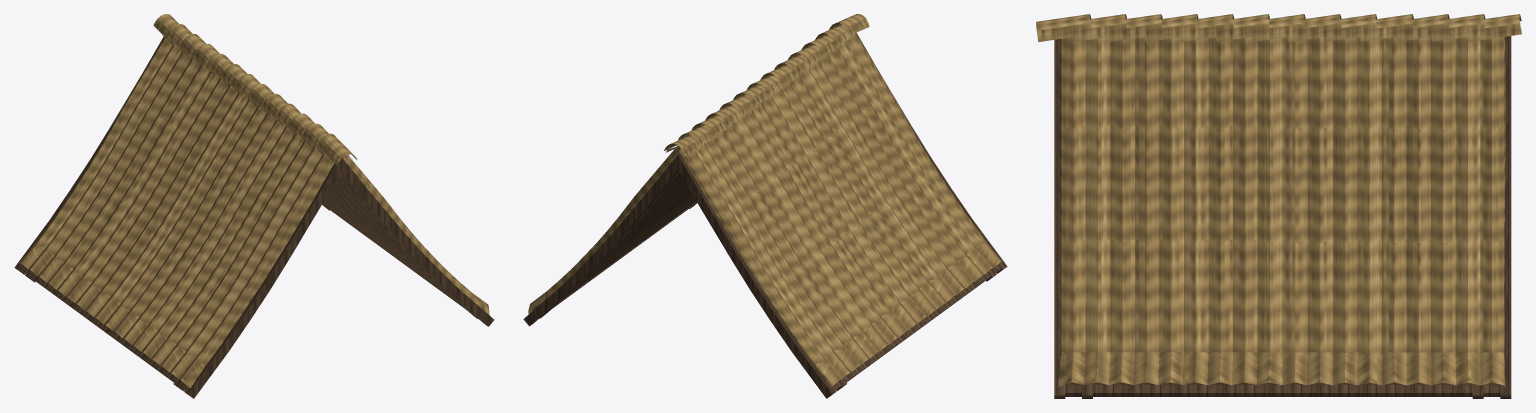
File: Roof_Thatch_8x8.gltf
3 renders of one model, left to right at view 1: azimuth 30°, elevation 25°; view 2: azimuth 150°, elevation 25°; view 3: azimuth 270°, elevation 25°, orthographic. The views are drawn at different scales.
Parts seen in each view (by area): view 1: Roof_Thatch_8x8; view 2: Roof_Thatch_8x8; view 3: Roof_Thatch_8x8.
Part boxes in pixels (box(x1,y1,x2,y2)): Roof_Thatch_8x8: box(14, 14, 494, 398); Roof_Thatch_8x8: box(523, 14, 1007, 398); Roof_Thatch_8x8: box(1036, 14, 1521, 398).
Size of the model in its own units: 9.95 by 6.78 by 10.33.
2 materials, 2 textured.
